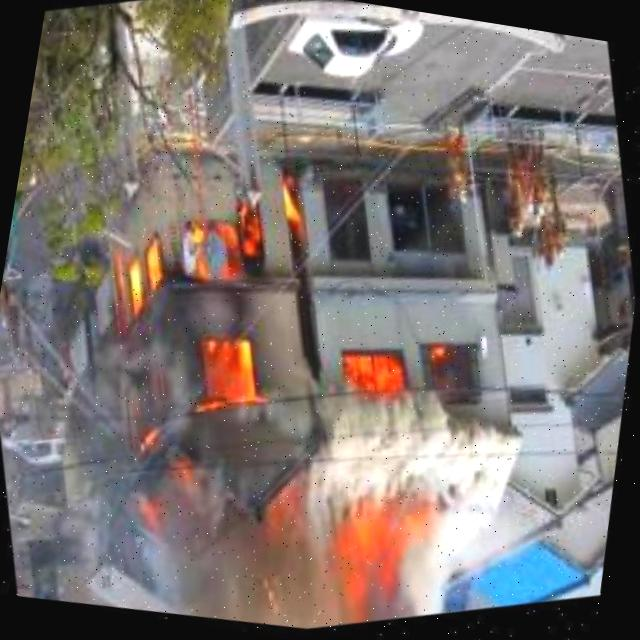fire: (49, 151, 383, 546), (305, 475, 465, 640), (332, 325, 463, 421)
